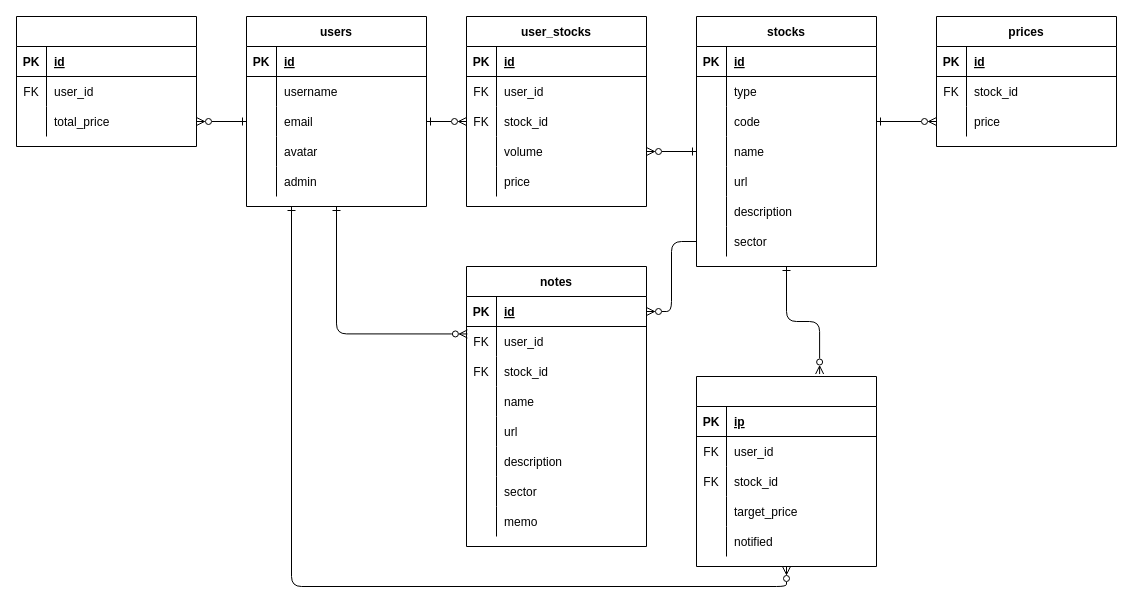
Image size: 1133x603. Some labels were removed from this diagram. The shapes that lost their labels are listed below. From the top down, each one's box as (x1, y1, x2, y2) in pixels, then its label:
(16, 16, 196, 146): user_assets
(696, 376, 876, 566): notifications
